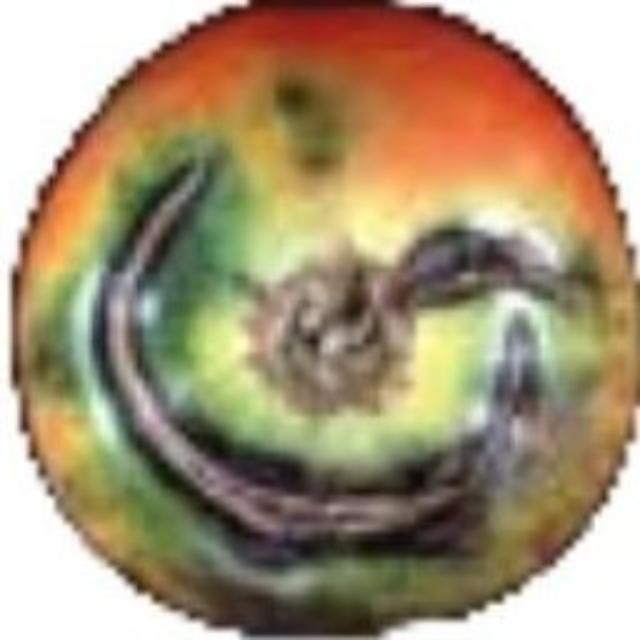defect: (12, 0, 640, 624)
